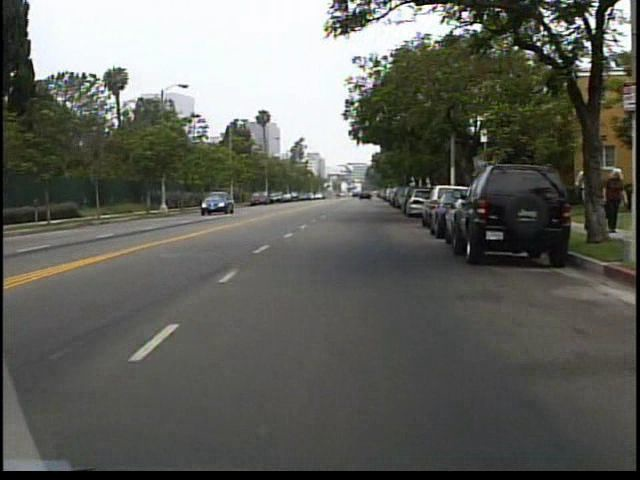person: (599, 163, 625, 239), (568, 158, 592, 236)
